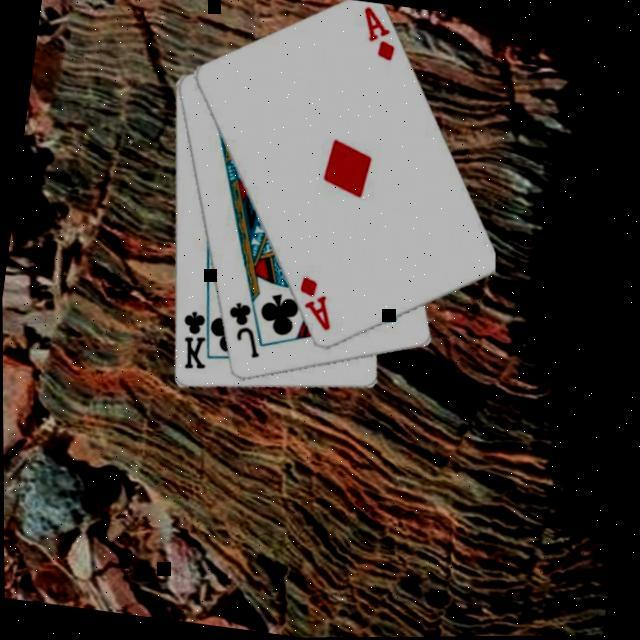AD: (353, 2, 401, 64), (290, 272, 338, 332)
JC: (218, 297, 268, 361)
KC: (172, 298, 220, 372)
